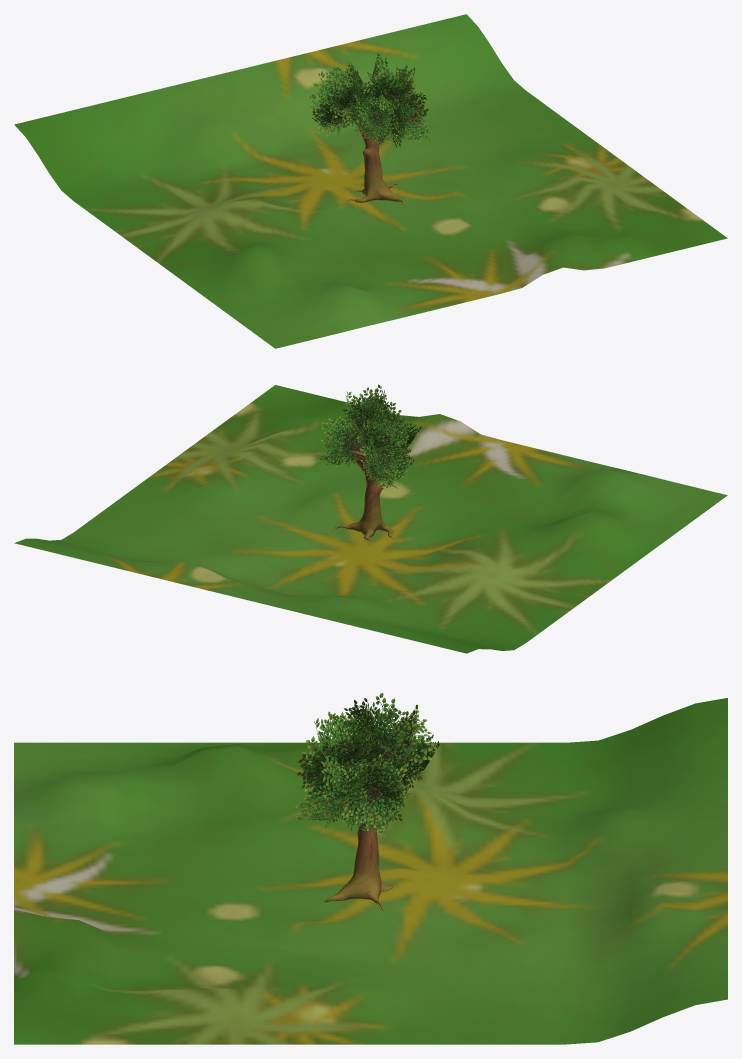
The model's file is Tree_Base.fbx.
The picture shows the model from 3 angles, top to bottom: view 1: azimuth 30°, elevation 25°; view 2: azimuth 150°, elevation 25°; view 3: azimuth 270°, elevation 25°; orthographic projection. The views are drawn at different scales.
Visible parts, largest first — view 1: Plane, Plane.003; view 2: Plane, Plane.003; view 3: Plane, Plane.003.
Boxes of the visible parts, x1,y1,x2,y2 form: Plane: (14, 14, 727, 348); Plane.003: (308, 53, 432, 204); Plane: (14, 385, 727, 653); Plane.003: (315, 384, 421, 540); Plane: (14, 698, 727, 1044); Plane.003: (295, 693, 439, 910).
Size of the model in its own units: 13.95 by 4.5 by 13.95.
